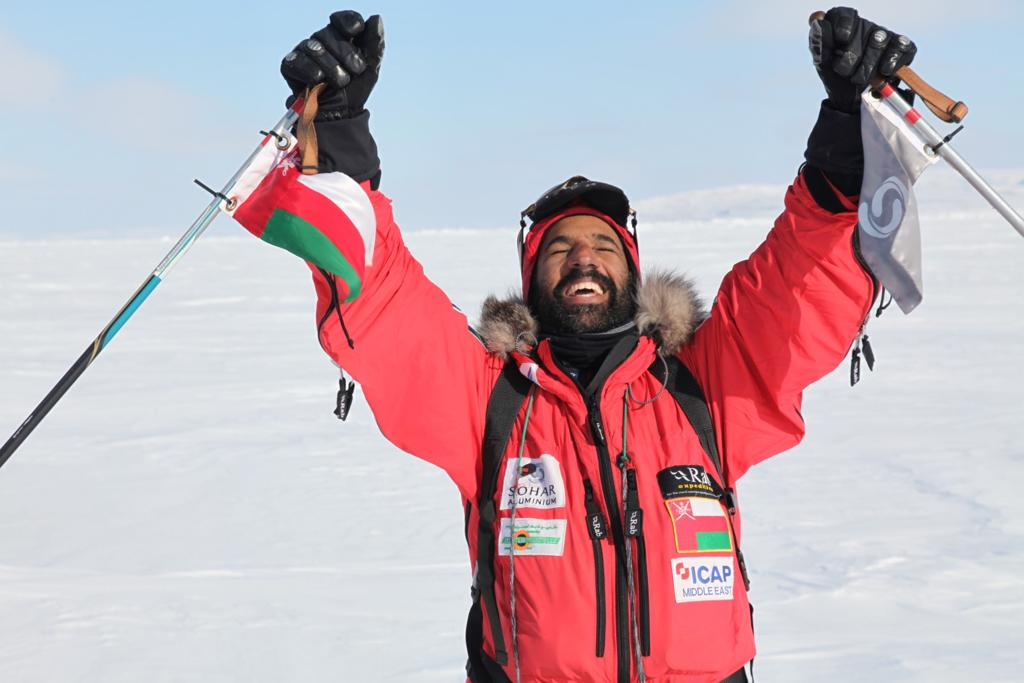face: (534, 208, 634, 324)
